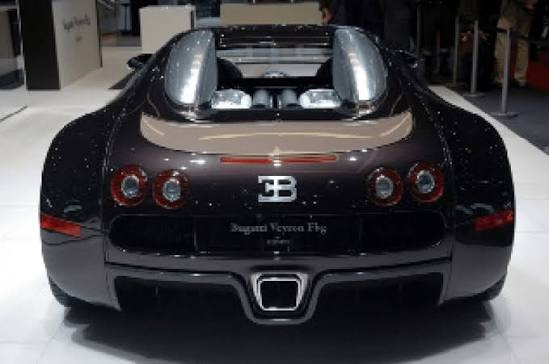car: (36, 8, 523, 345)
